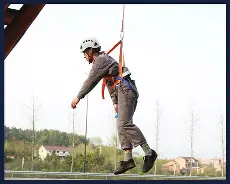safety belt: (84, 37, 142, 98)
